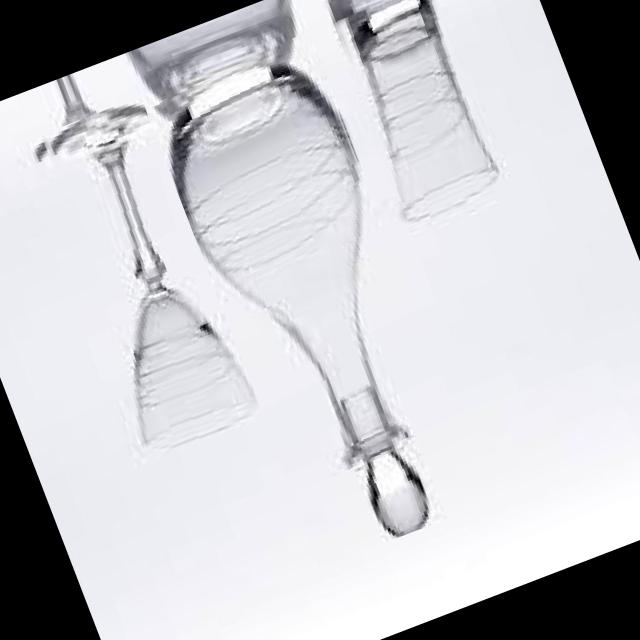Glass: (137, 30, 491, 568), (24, 96, 263, 462), (319, 0, 506, 229)
